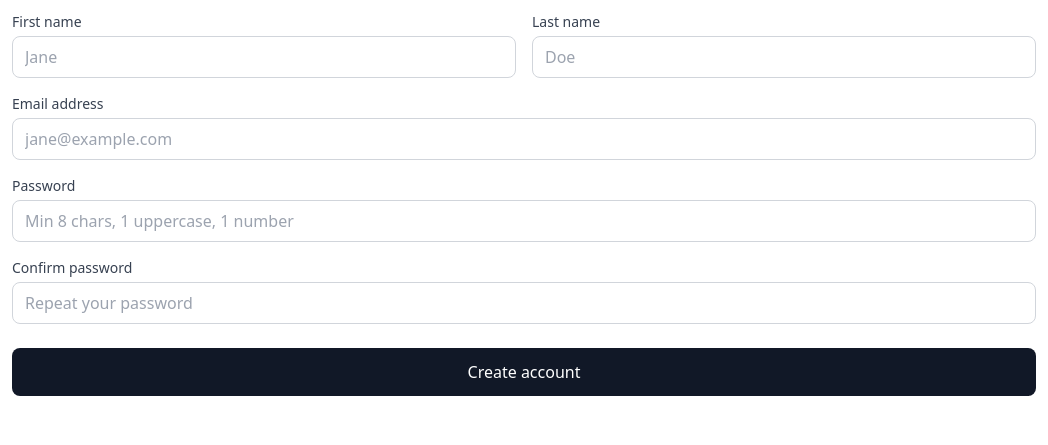
RegisterForm › shows password strength indicator when user types a password
Type "Password1" into the password field labelled "Password" at (524, 221), box [12,200,1036,242]
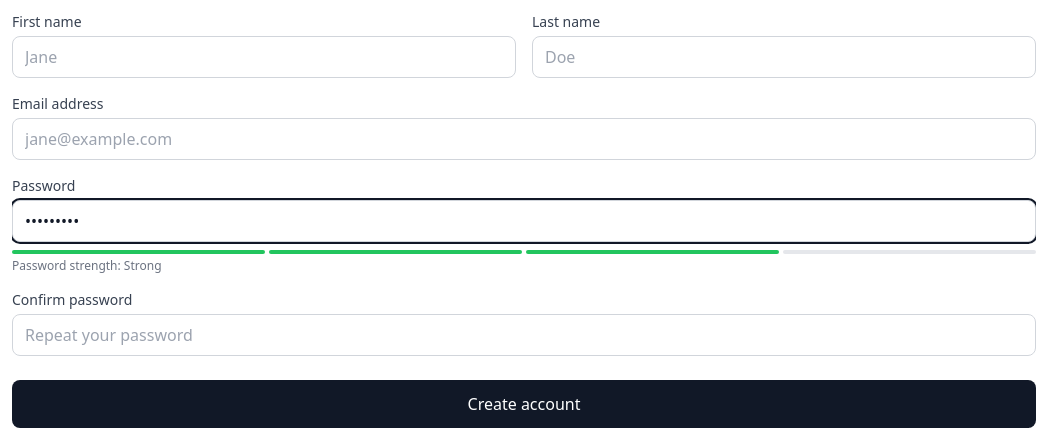
Expected: the text "Password strength: Strong" is shown, [12,257,162,274]
